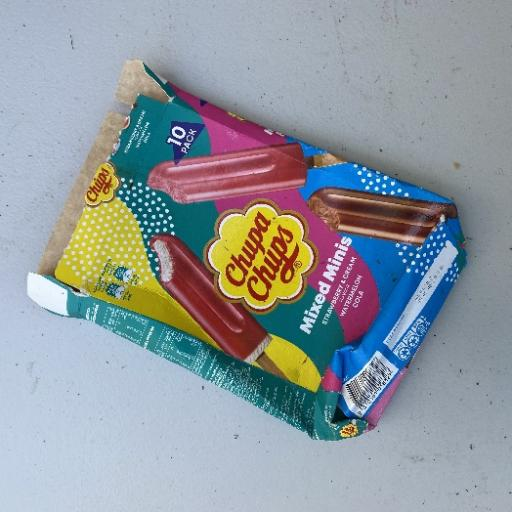Cardboard: (25, 58, 469, 442)
